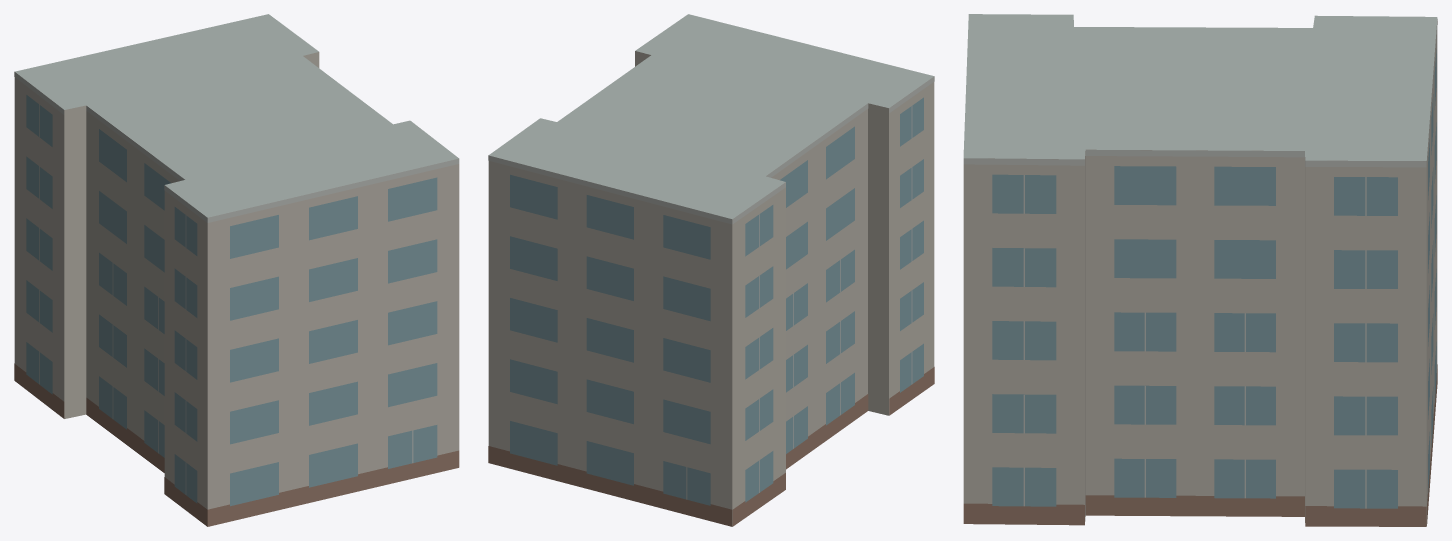
The model's file is survey-upis-32473193.glb.
The picture shows the model from 3 angles, left to right: view 1: azimuth 30°, elevation 25°; view 2: azimuth 150°, elevation 25°; view 3: azimuth 270°, elevation 25°; orthographic projection. The views are drawn at different scales.
Parts seen in each view (by area): view 1: survey-upis-32473193.tmp; view 2: survey-upis-32473193.tmp; view 3: survey-upis-32473193.tmp.
Boxes of the visible parts, bbox=[...] form: survey-upis-32473193.tmp: bbox=[14, 14, 459, 526]; survey-upis-32473193.tmp: bbox=[488, 14, 934, 526]; survey-upis-32473193.tmp: bbox=[963, 14, 1437, 526].
Size of the model in its own units: 12.34 by 14.3 by 16.8.
